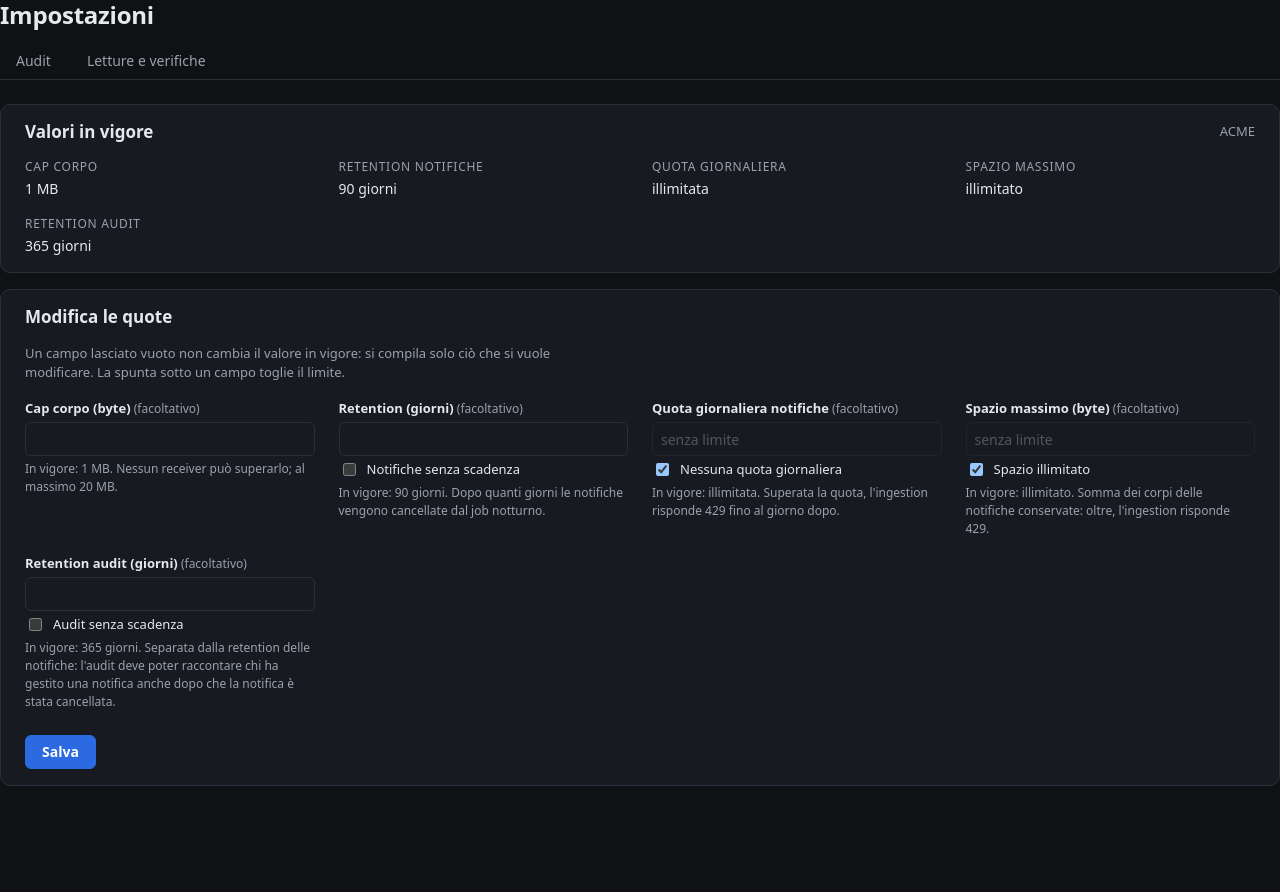
Test: SettingsPage › T-UI18 test_conflitto_cap_elenca_i_receiver: un 409 con conflicting_receivers mostra i nomi
Type "500000" into the number field labelled "Cap corpo (byte)" at (170, 439), box [25,422,314,456]
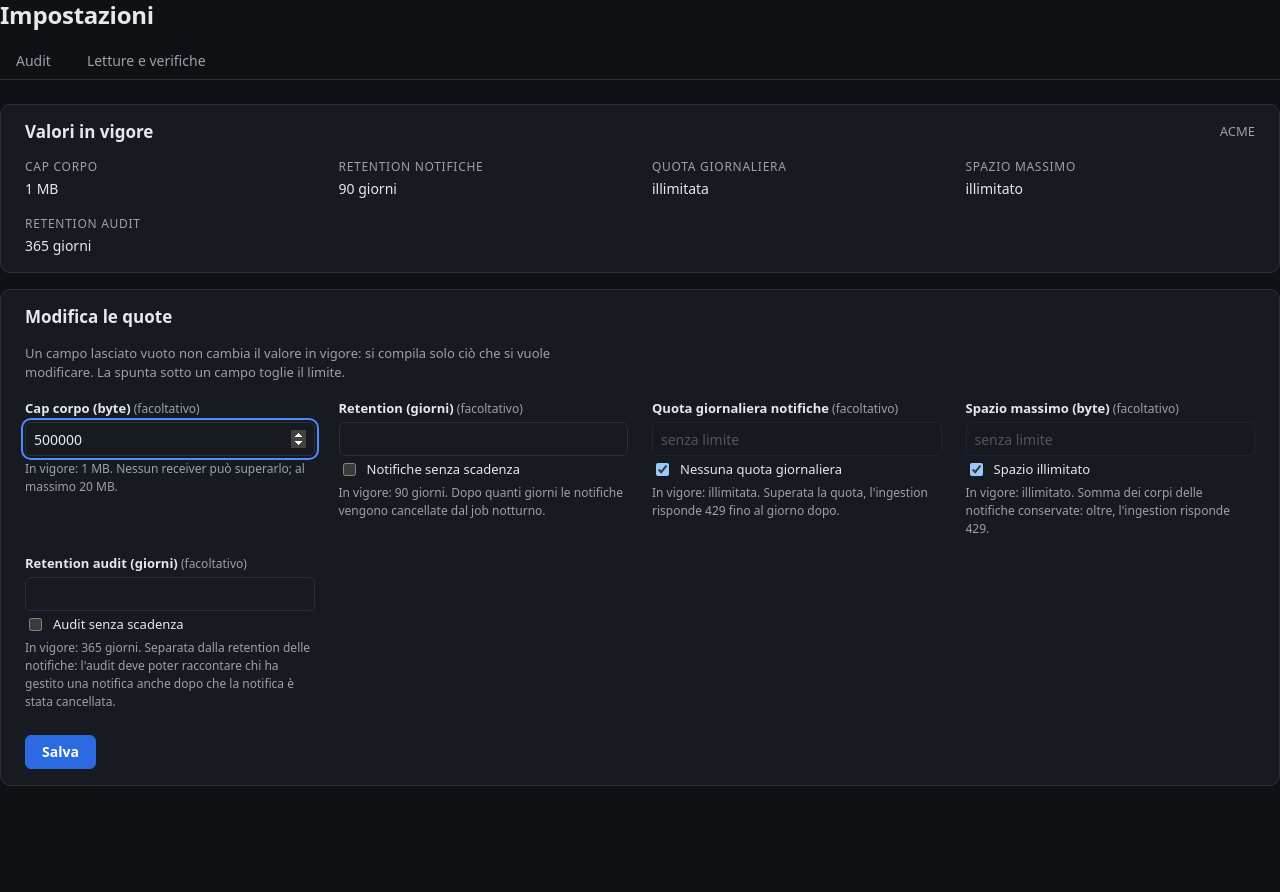
Click the button "Salva" at (60, 752), box [25,734,96,769]
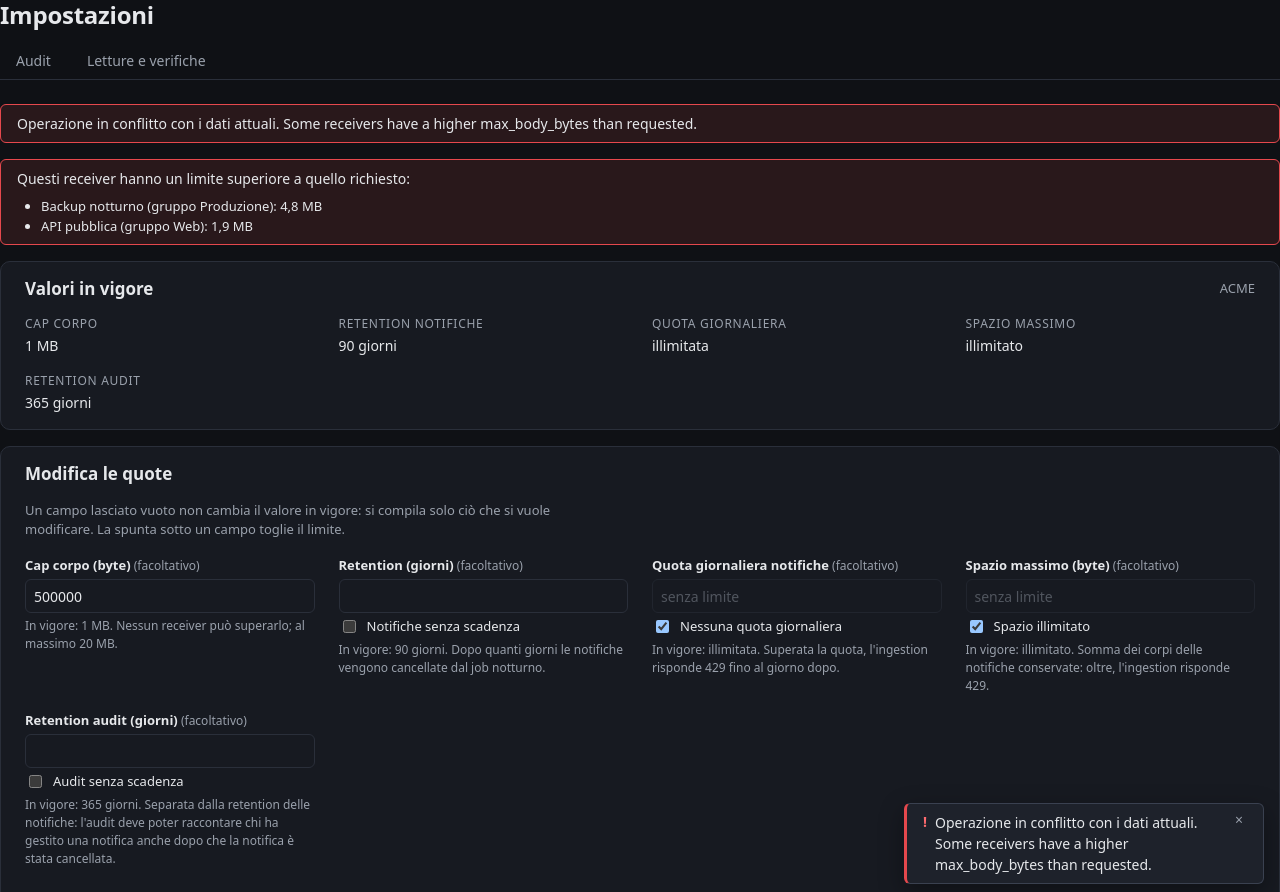
expect the list item "Backup notturno (gruppo Produzione): 4,8 MB" is shown: met, box [41,197,322,215]
expect the list item "API pubblica (gruppo Web): 1,9 MB" is shown: met, box [41,216,253,234]
